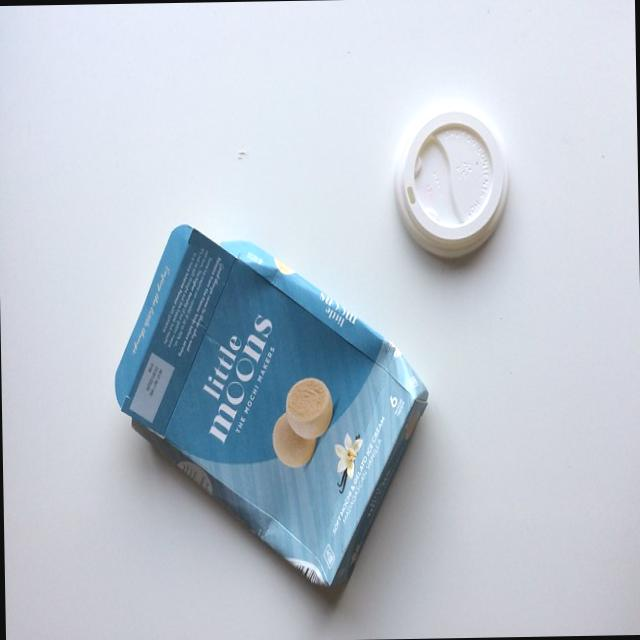Trash: (114, 219, 426, 591), (391, 112, 513, 256)
